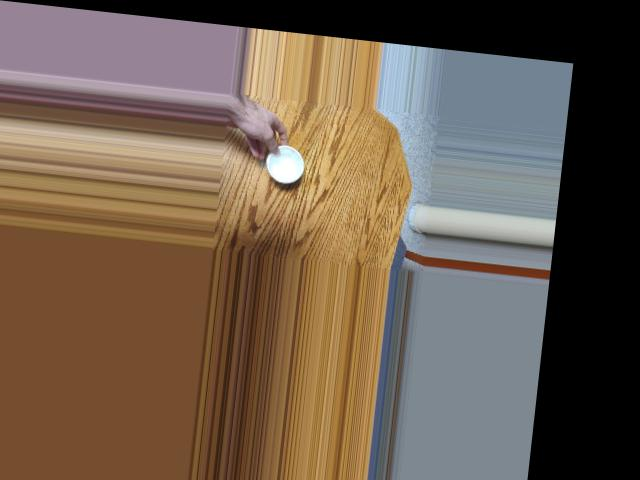cotage: (264, 140, 306, 188)
